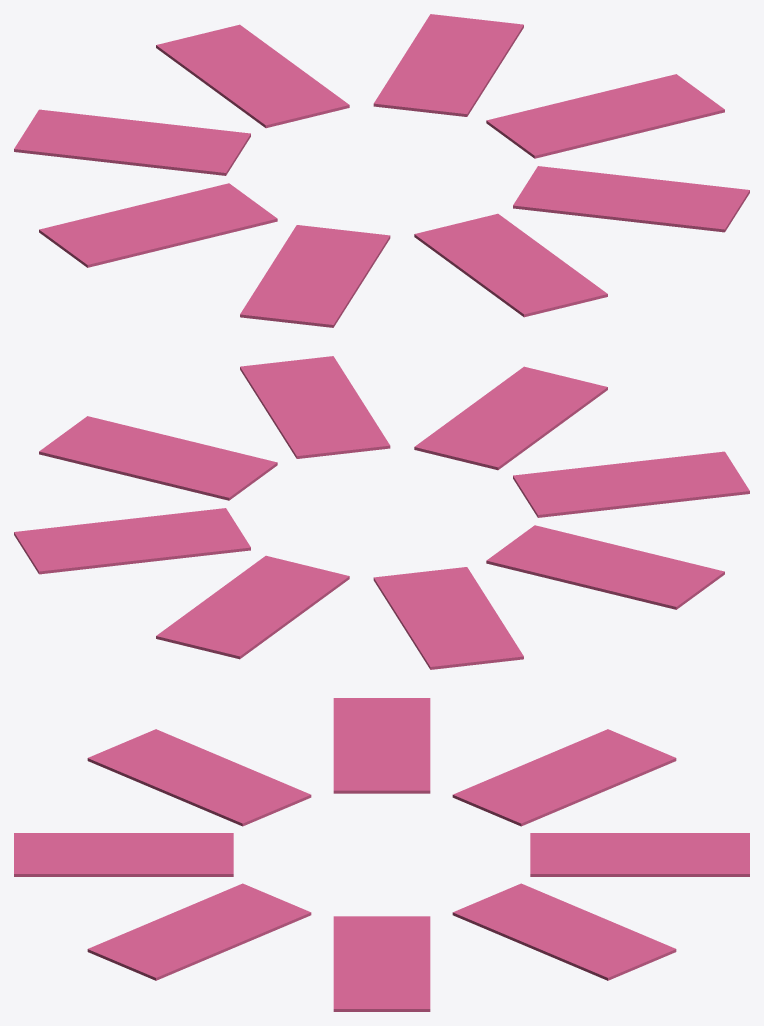
3 renders of one model, top to bottom at view 1: azimuth 30°, elevation 25°; view 2: azimuth 150°, elevation 25°; view 3: azimuth 270°, elevation 25°, orthographic.
Parts seen in each view (by area): view 1: Lotus geometric petal.003, Lotus geometric petal.007, Lotus geometric petal, Lotus geometric petal.004, Lotus geometric petal.002, Lotus geometric petal.006, Lotus geometric petal.001, Lotus geometric petal.005; view 2: Lotus geometric petal.001, Lotus geometric petal.005, Lotus geometric petal, Lotus geometric petal.004, Lotus geometric petal.002, Lotus geometric petal.006, Lotus geometric petal.003, Lotus geometric petal.007; view 3: Lotus geometric petal.001, Lotus geometric petal.003, Lotus geometric petal.005, Lotus geometric petal.007, Lotus geometric petal.002, Lotus geometric petal.006, Lotus geometric petal, Lotus geometric petal.004.
Part boxes in pixels (x1=…): Lotus geometric petal.003: x1=14, y1=109, x2=250, y2=175; Lotus geometric petal.007: x1=513, y1=166, x2=749, y2=232; Lotus geometric petal: x1=486, y1=74, x2=724, y2=158; Lotus geometric petal.004: x1=39, y1=183, x2=277, y2=267; Lotus geometric petal.002: x1=156, y1=24, x2=349, y2=128; Lotus geometric petal.006: x1=414, y1=213, x2=607, y2=317; Lotus geometric petal.001: x1=373, y1=14, x2=523, y2=116; Lotus geometric petal.005: x1=240, y1=225, x2=390, y2=327; Lotus geometric petal.001: x1=14, y1=508, x2=250, y2=574; Lotus geometric petal.005: x1=513, y1=451, x2=749, y2=517; Lotus geometric petal: x1=39, y1=416, x2=277, y2=500; Lotus geometric petal.004: x1=486, y1=525, x2=724, y2=609; Lotus geometric petal.002: x1=156, y1=555, x2=349, y2=659; Lotus geometric petal.006: x1=414, y1=366, x2=607, y2=470; Lotus geometric petal.003: x1=373, y1=567, x2=523, y2=669; Lotus geometric petal.007: x1=240, y1=356, x2=390, y2=458; Lotus geometric petal.001: x1=452, y1=883, x2=676, y2=980; Lotus geometric petal.003: x1=452, y1=729, x2=676, y2=826; Lotus geometric petal.005: x1=87, y1=729, x2=311, y2=826; Lotus geometric petal.007: x1=87, y1=883, x2=311, y2=980; Lotus geometric petal.002: x1=530, y1=833, x2=749, y2=876; Lotus geometric petal.006: x1=14, y1=833, x2=233, y2=876; Lotus geometric petal: x1=333, y1=916, x2=430, y2=1011; Lotus geometric petal.004: x1=333, y1=698, x2=430, y2=793.
Size of the model in its own units: 114 by 0.5 by 114.
